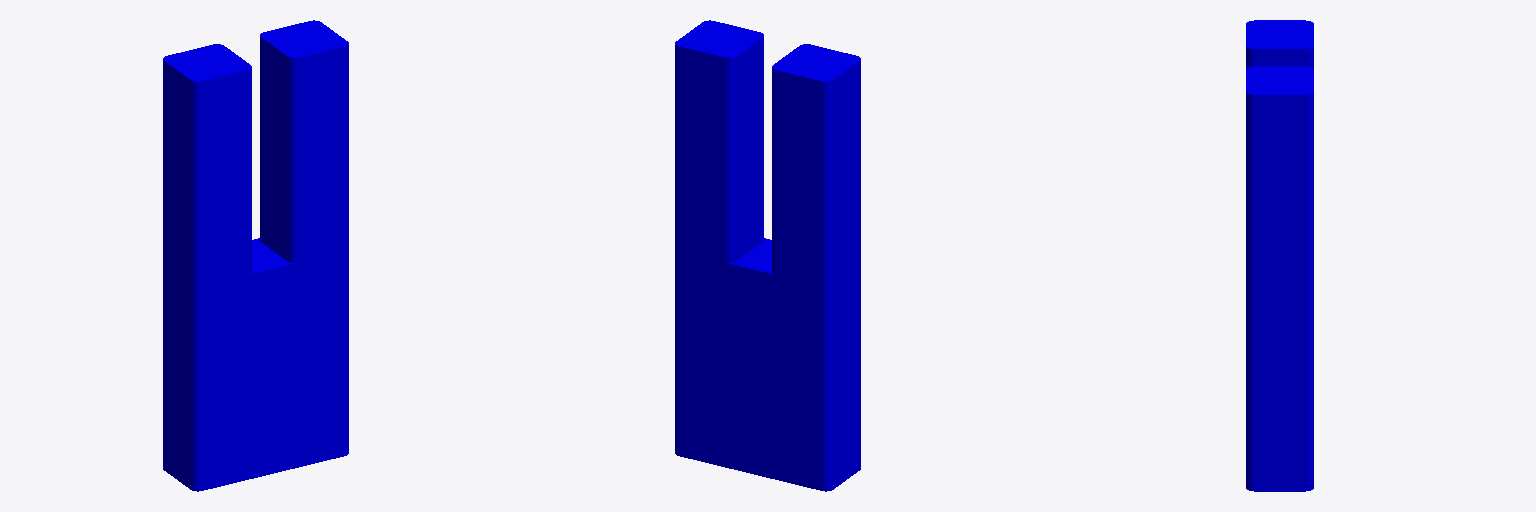
URDF robot description (board3_block2):
<?xml version="1.0"?>
<robot name="board3_block2">
    <link name="board3_block2">
        <visual>
            <origin xyz="0 0 0 " rpy=" 0 0 0"/>
            <geometry>
                <mesh filename="../meshes/SIMO_Board3_Block2.stl" scale="0.001 0.001 0.001"/>
            </geometry>
            <material name="red">
                <color rgba="0.0 0.0 1.0 1.0"/>
            </material>
        </visual>
        <collision>
            <origin xyz="0 0 0" rpy="0 0 0"/>
            <geometry>
                <mesh filename="../meshes/SIMO_Board3_Block2.stl" scale="0.001 0.001 0.001"/>
            </geometry>
        </collision>
    </link>
</robot>

--- Render facts (derived) ---
Views: 3 orthographic renders of the robot side by side, from view 1: azimuth 30°, elevation 25°; view 2: azimuth 150°, elevation 25°; view 3: azimuth 270°, elevation 25°.
Model board3_block2 with 1 links and 0 joints (none), rooted at board3_block2, posed all joints at 0.
Links seen in each view (by area): view 1: board3_block2; view 2: board3_block2; view 3: board3_block2.
Link boxes in pixels (x1,y1,x2,y2): board3_block2: (163,20,348,491); board3_block2: (675,20,860,491); board3_block2: (1246,20,1313,491).
Bounding box of the posed robot: 0.0402 × 0.0154 × 0.1 m (x, y, z).
1 mesh visuals loaded from 1 distinct referenced files (1 ASCII STL).
